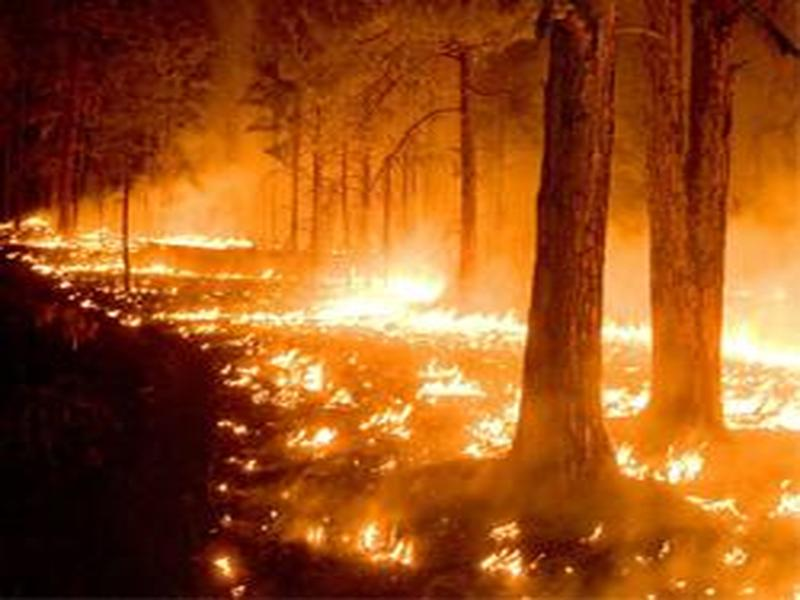FIRE: (41, 197, 726, 600)
